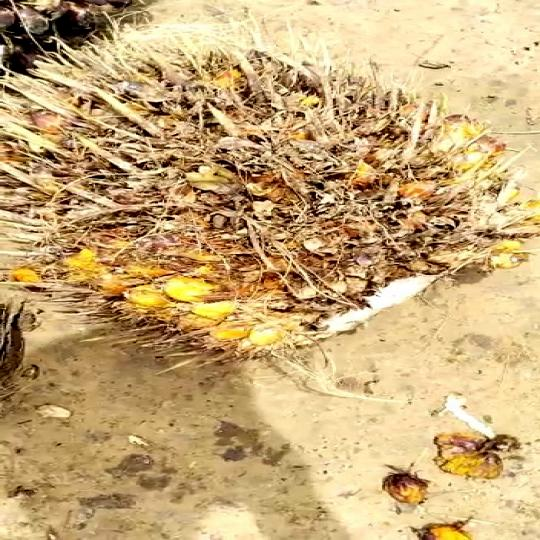terlalu masak: (0, 24, 540, 406)
